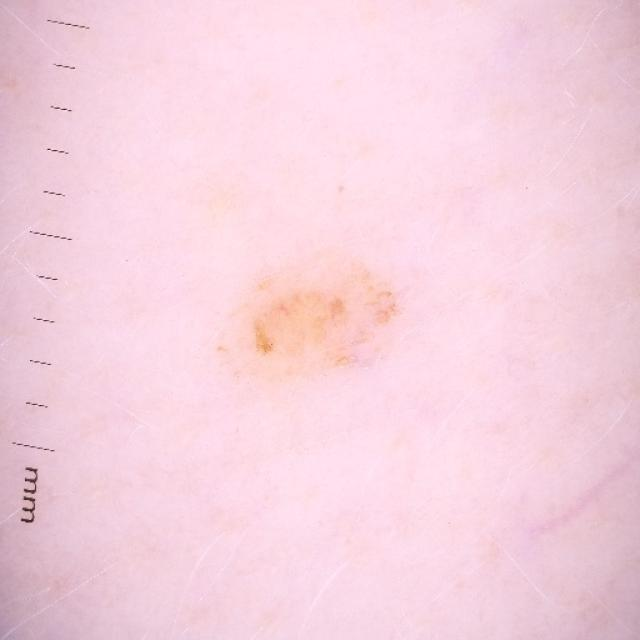Melanoma: (245, 258, 398, 378)
